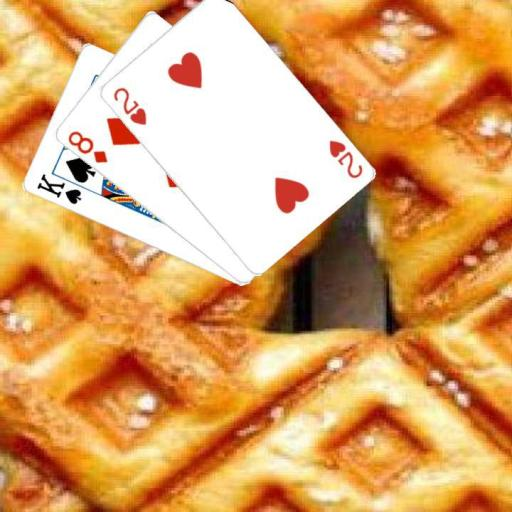2H: (109, 83, 148, 127), (325, 136, 364, 180)
8D: (64, 127, 110, 165)
KS: (33, 171, 83, 206)
